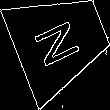N_NE: (32, 13, 89, 69)
